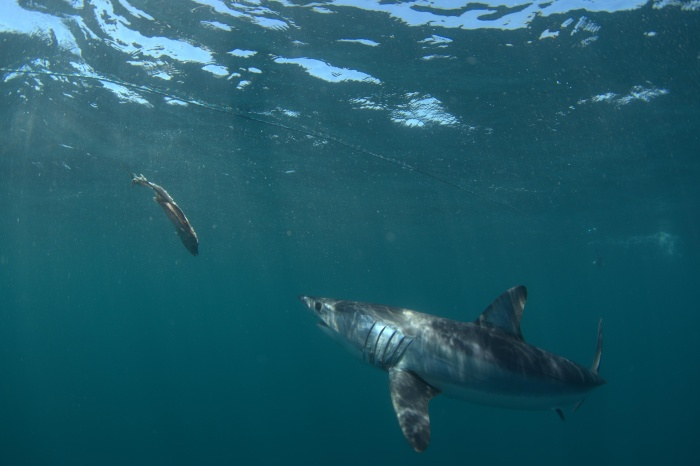Mako: (276, 266, 628, 456)
